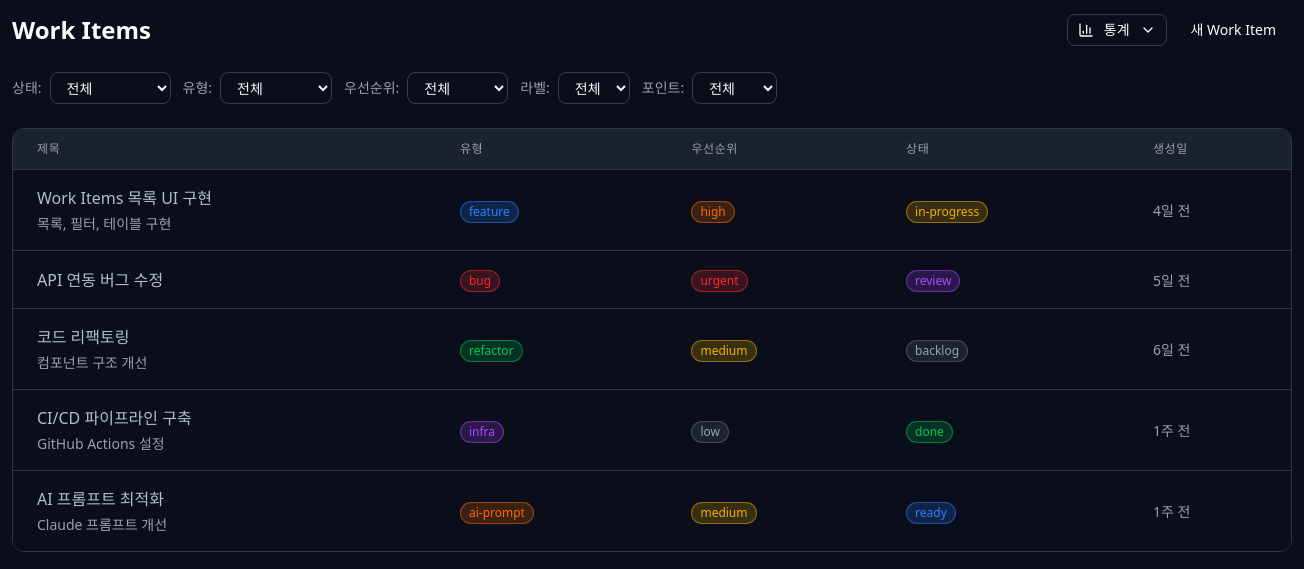
Test: WorkItemsPage › 필터 기능 › 유형 필터링 동작 (bug만 표시)
# 유형 필터에서 "bug" 선택 (id로 검색)
Select "bug" in the dropdown with id "type-filter" at (276, 88), box [220,72,332,104]
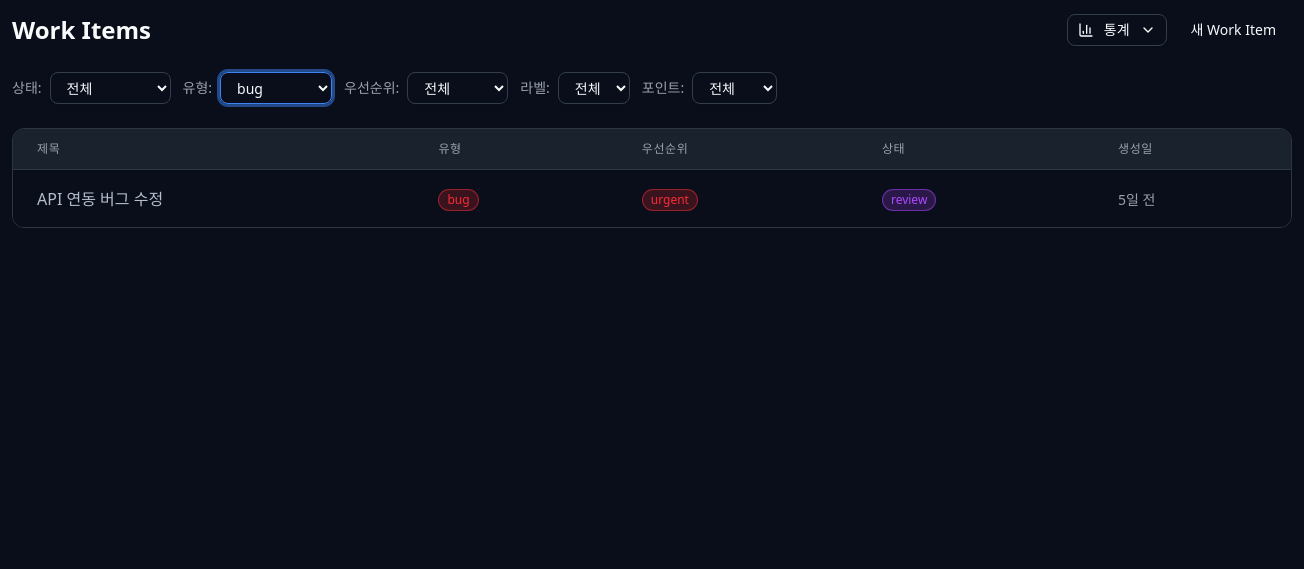
Check: the text "Work Items 목록 UI 구현" is gone
Check: the text "코드 리팩토링" is gone
